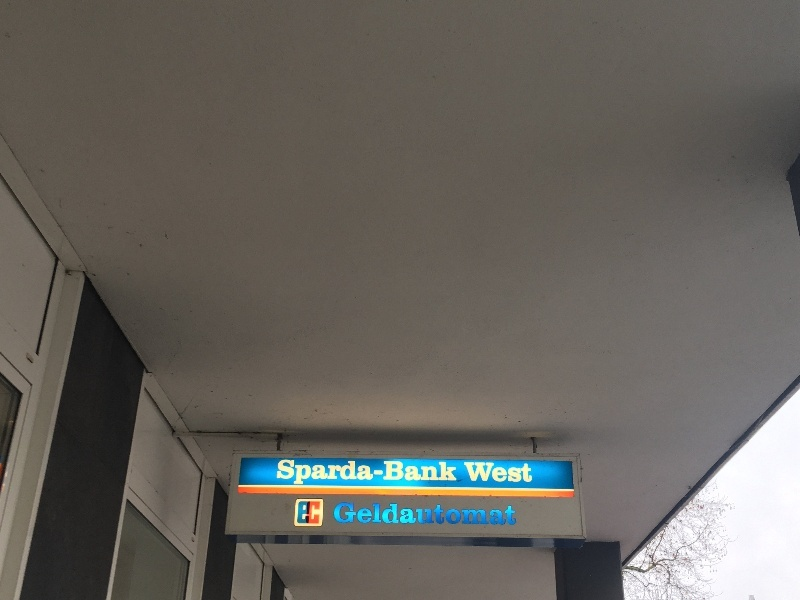text: (289, 459, 304, 485), (305, 459, 320, 485), (321, 459, 336, 485), (337, 459, 352, 485), (353, 459, 368, 485), (369, 459, 384, 485), (385, 459, 400, 485), (401, 459, 416, 485), (417, 459, 432, 485), (433, 459, 448, 485), (305, 501, 321, 525), (337, 502, 352, 526), (353, 502, 368, 526), (369, 502, 384, 526), (385, 502, 400, 526), (401, 502, 416, 526), (417, 502, 432, 526), (433, 502, 448, 526), (449, 502, 464, 526), (465, 502, 480, 526), (481, 502, 496, 526), (497, 502, 512, 526), (465, 462, 480, 483), (481, 462, 496, 483), (497, 462, 512, 483), (513, 462, 528, 483), (278, 459, 288, 485), (449, 459, 457, 485), (299, 501, 304, 525), (513, 502, 516, 526), (529, 462, 532, 483), (334, 502, 336, 526), (463, 462, 464, 483)
